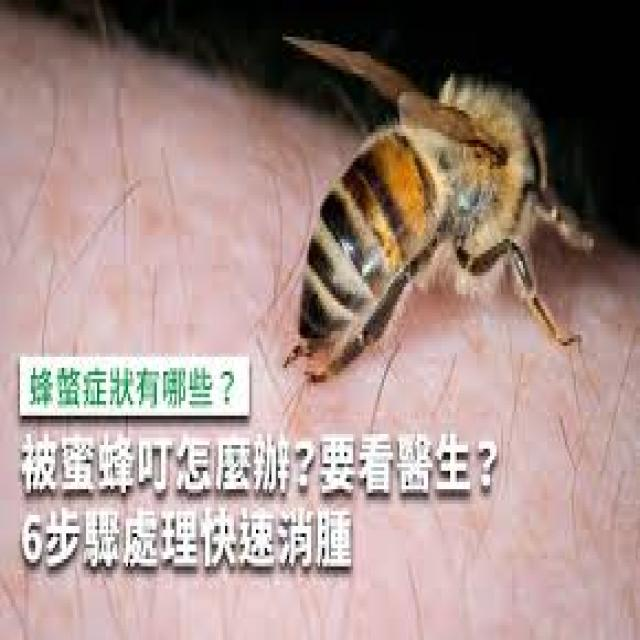Bees: (281, 29, 596, 397)
